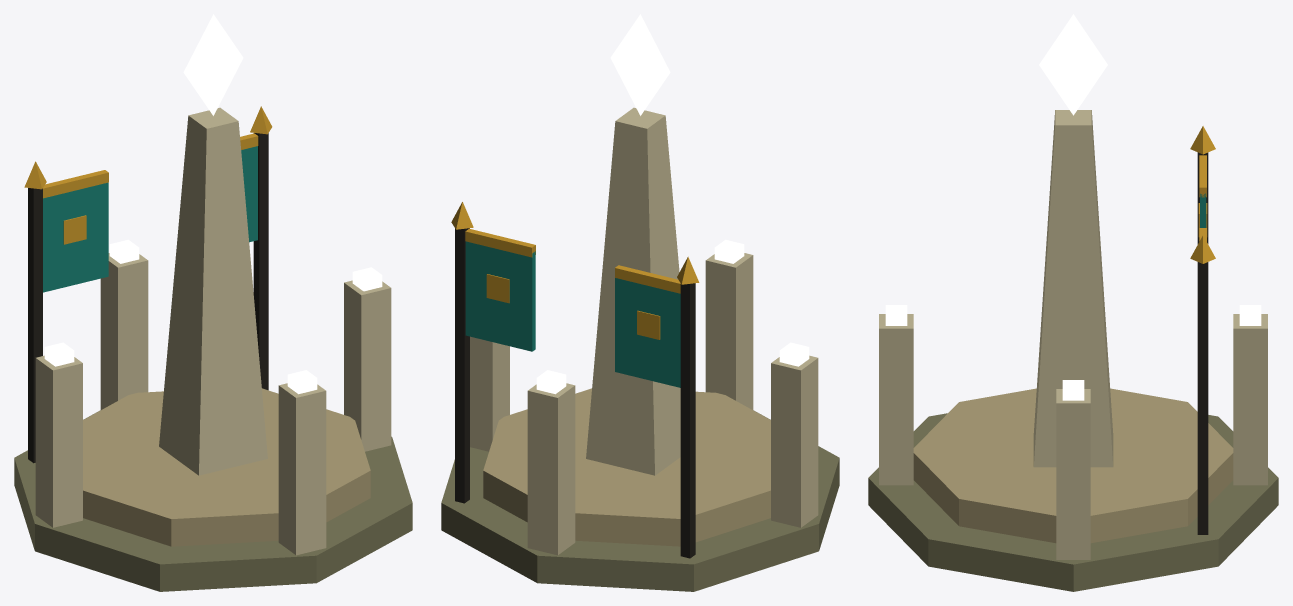
File: hero_forge_t2.glb
3 views of the same model, side by side, from view 1: azimuth 30°, elevation 25°; view 2: azimuth 150°, elevation 25°; view 3: azimuth 270°, elevation 25° (orthographic).
Visible parts, largest first — view 1: body, glow; view 2: body, glow; view 3: body, glow.
Boxes of the visible parts, box(x1,y1,x2,y2) form: body: box(14, 106, 412, 591); glow: box(44, 14, 382, 394); body: box(441, 107, 839, 591); glow: box(536, 14, 809, 394); body: box(868, 110, 1278, 591); glow: box(885, 14, 1261, 400).
Size of the model in its own units: 1.9 by 2.51 by 1.9.
